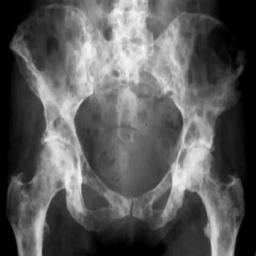cancer: (6, 3, 247, 256)
